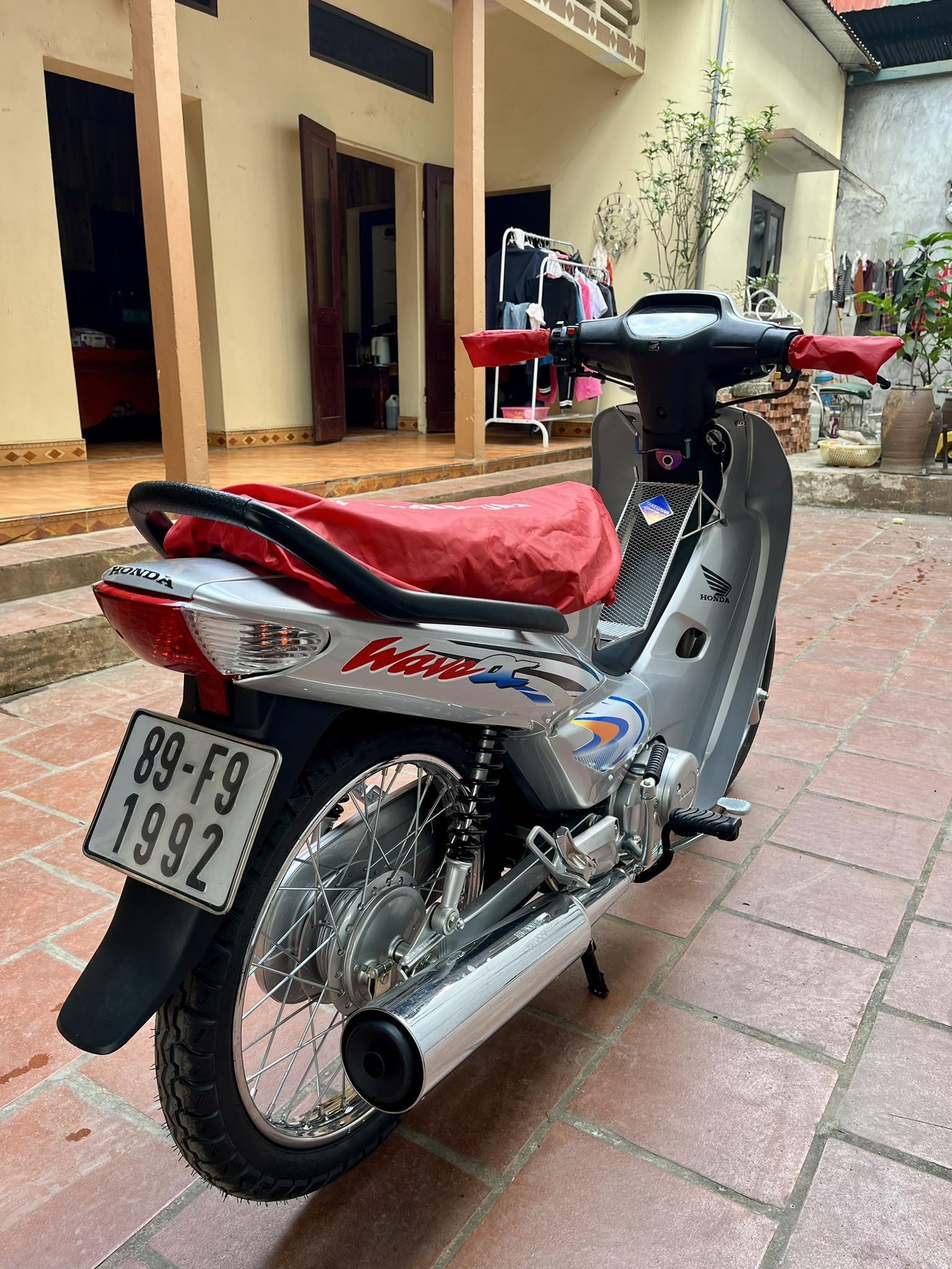bien_so: (80, 695, 293, 929)
